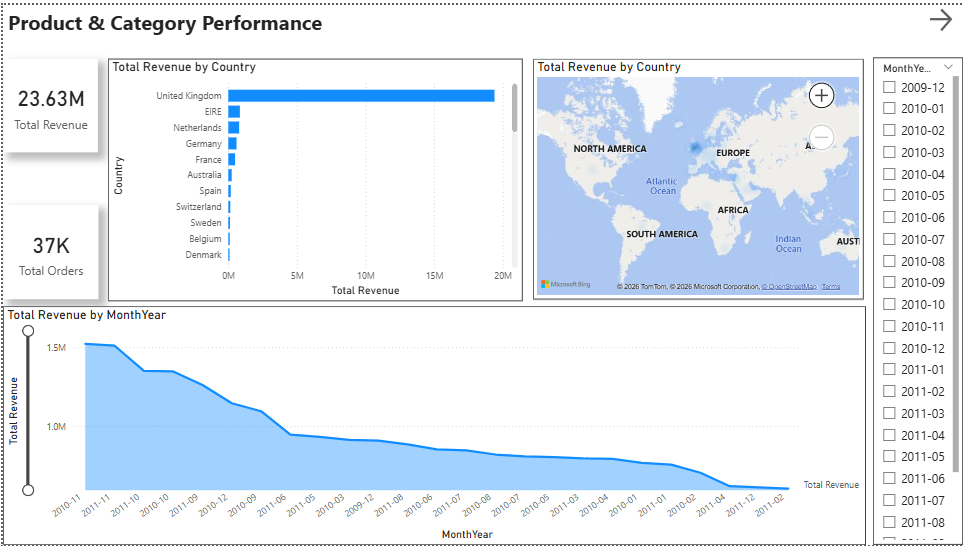

What the dashboard file says about the page in this screenshot:
{"tool":"powerbi","page":{"name":"Page 1","canvas":[1280,720],"ordinal":0},"visuals":[{"type":"card","fields":{"Values":["fact_sales.Total Revenue"]},"box":[1.1,70.9,125,125],"z":0},{"type":"card","fields":{"Values":["fact_sales.Total Orders"]},"box":[1.2,266.2,125.6,125.6],"z":1000},{"type":"lineChart","fields":{"Category":["dim_date.MonthYear"],"Y":["fact_sales.Total Revenue"]},"box":[0,401.4,1150,318.6],"z":2000},{"type":"clusteredBarChart","fields":{"Category":["dim_customer.Country"],"Y":["fact_sales.Total Revenue"]},"box":[140,70.9,552.9,322.9],"z":3000},{"type":"slicer","fields":{"Values":["dim_date.MonthYear"]},"box":[1159.3,70.8,120.4,649.6],"z":4000},{"type":"map","fields":{"Category":["dim_customer.Country"],"Size":["fact_sales.Total Revenue"]},"box":[706.6,70.9,441,321],"z":5000},{"type":"textbox","box":[1.4,0,475.7,60],"z":5001},{"type":"actionButton","box":[1230.1,0,49.6,39.8],"z":5002}]}

Visuals, with their boxes in screenshot pixels (x1, y1, x2, y2), scaled from the page's 1280x720 canvas onto the 963x546 screenshot:
card - fact_sales.Total Revenue: crop(1, 54, 95, 149)
card - fact_sales.Total Orders: crop(1, 202, 95, 297)
lineChart - dim_date.MonthYear x fact_sales.Total Revenue: crop(0, 304, 865, 545)
clusteredBarChart - dim_customer.Country x fact_sales.Total Revenue: crop(105, 54, 521, 299)
slicer - dim_date.MonthYear: crop(872, 54, 962, 545)
map - dim_customer.Country x fact_sales.Total Revenue: crop(532, 54, 863, 297)
textbox: crop(1, 0, 359, 46)
actionButton: crop(925, 0, 962, 30)
